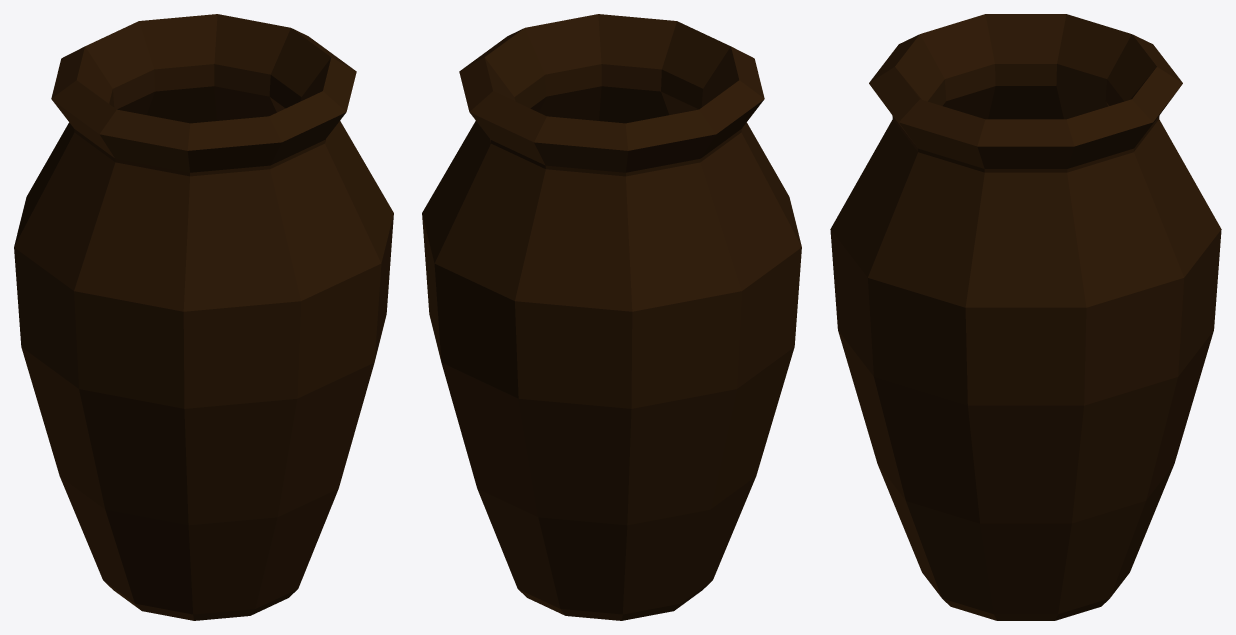
The model's file is Medium_Pot_(Outlined)v004.fbx.
3 views of the same model, side by side, from view 1: azimuth 30°, elevation 25°; view 2: azimuth 150°, elevation 25°; view 3: azimuth 270°, elevation 25° (orthographic).
Parts seen in each view (by area): view 1: Cylinder; view 2: Cylinder; view 3: Cylinder.
Part boxes in pixels (x1,y1,x2,y2): Cylinder: (14,14,393,620); Cylinder: (422,14,801,620); Cylinder: (830,14,1221,620).
Bounding box in the file's own units: 2.91 × 4.46 × 3.06.
